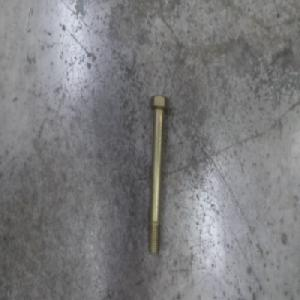Bolt: (147, 92, 169, 257)
